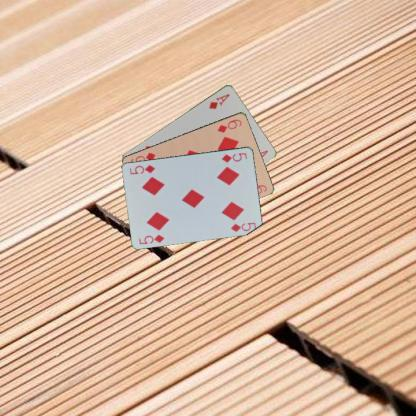5d: (219, 150, 249, 164), (137, 232, 166, 246)
6d: (215, 116, 243, 134)
Ad: (206, 91, 231, 110)
